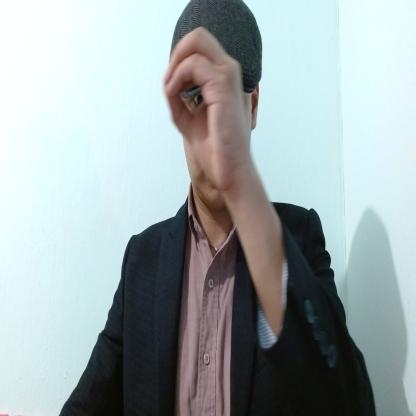O: (162, 24, 249, 192)
